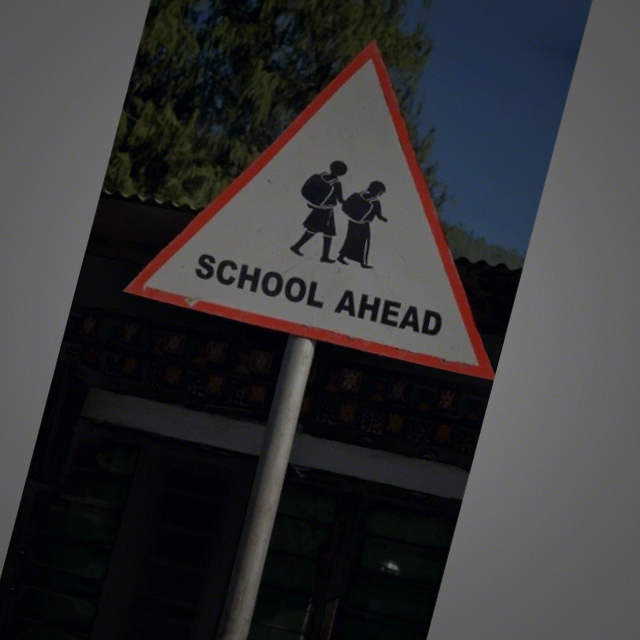School_Ahead: (133, 9, 545, 392)
